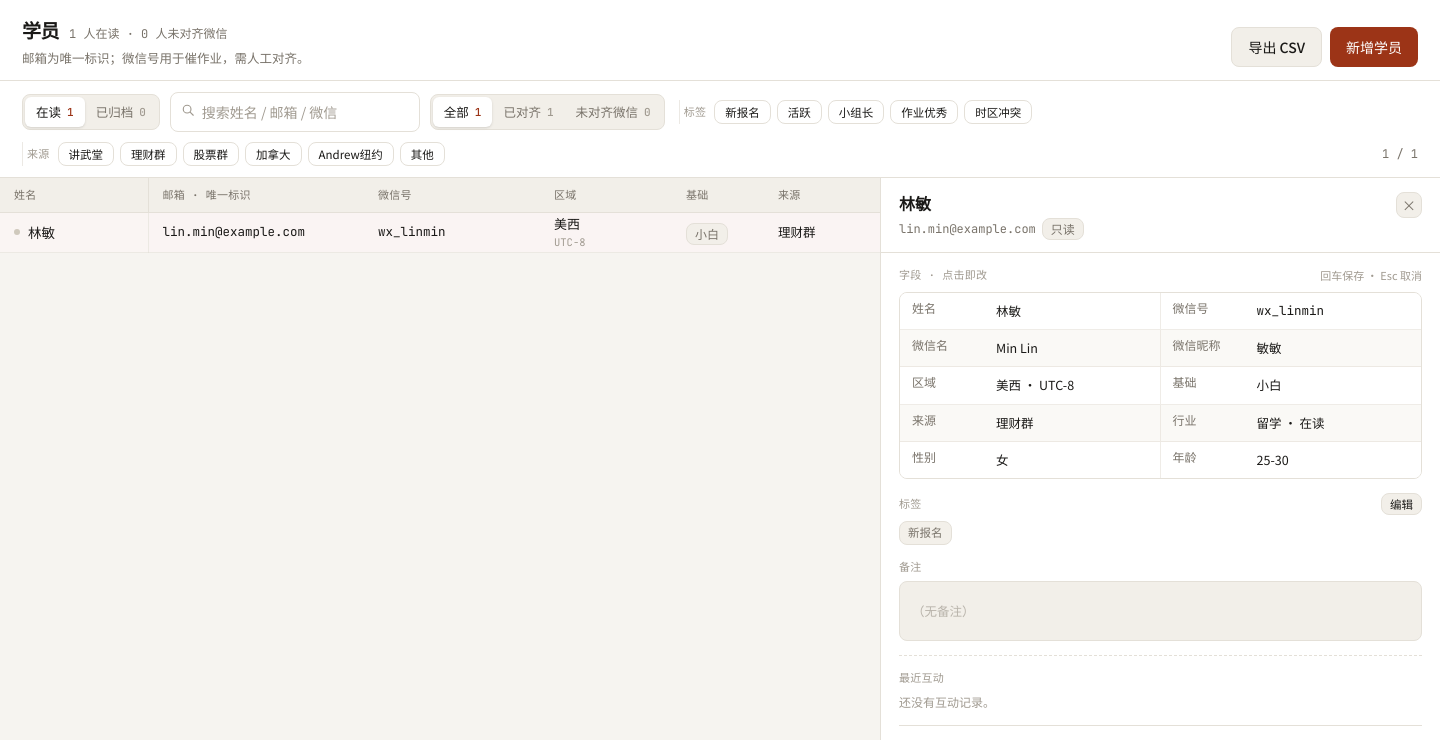
Test: a field that fails to save › keeps what the user typed instead of reverting to the stored value
Click the button "wx_linmin" at (1333, 311), box [1256, 299, 1409, 323]
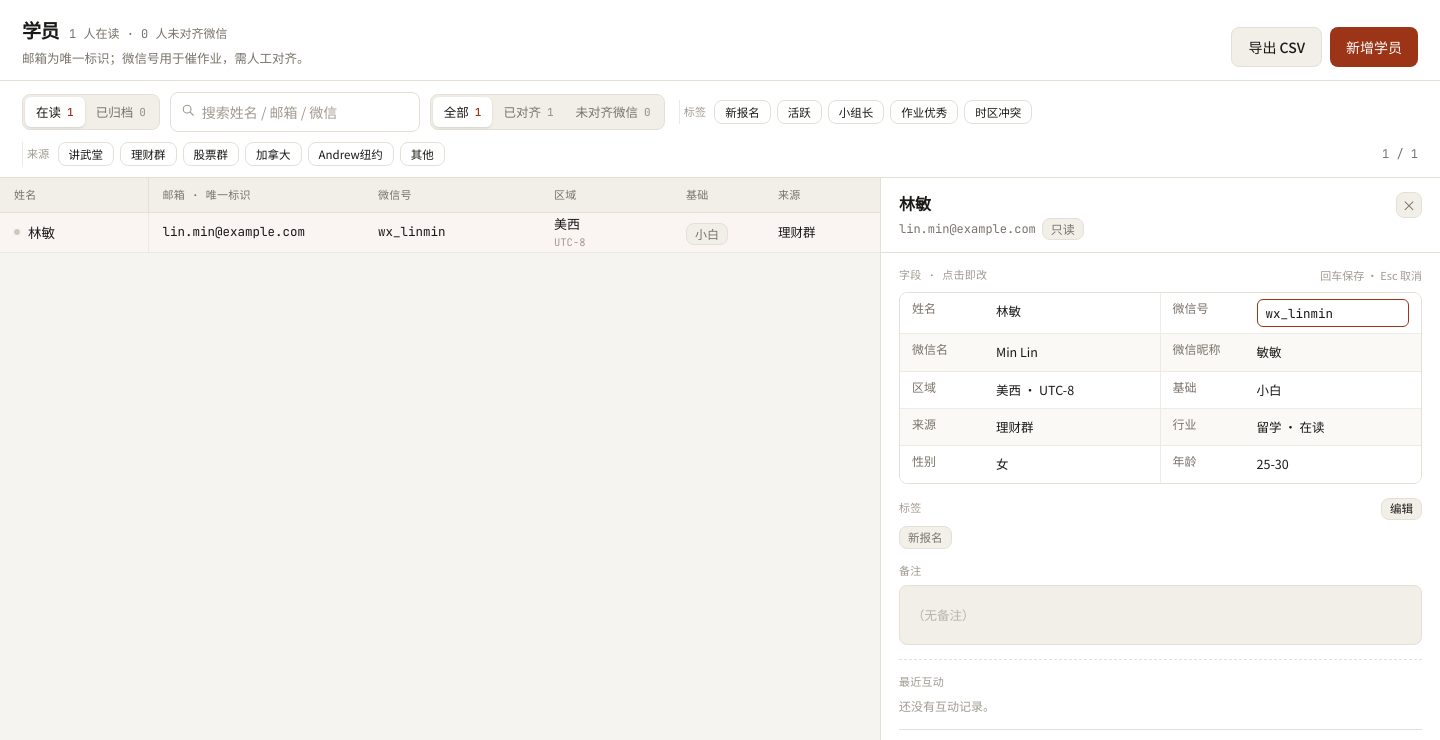
Replace the text in the 2nd field with "wx_hard_to_find" at (1333, 313), box [1256, 299, 1409, 327]
Then press Enter
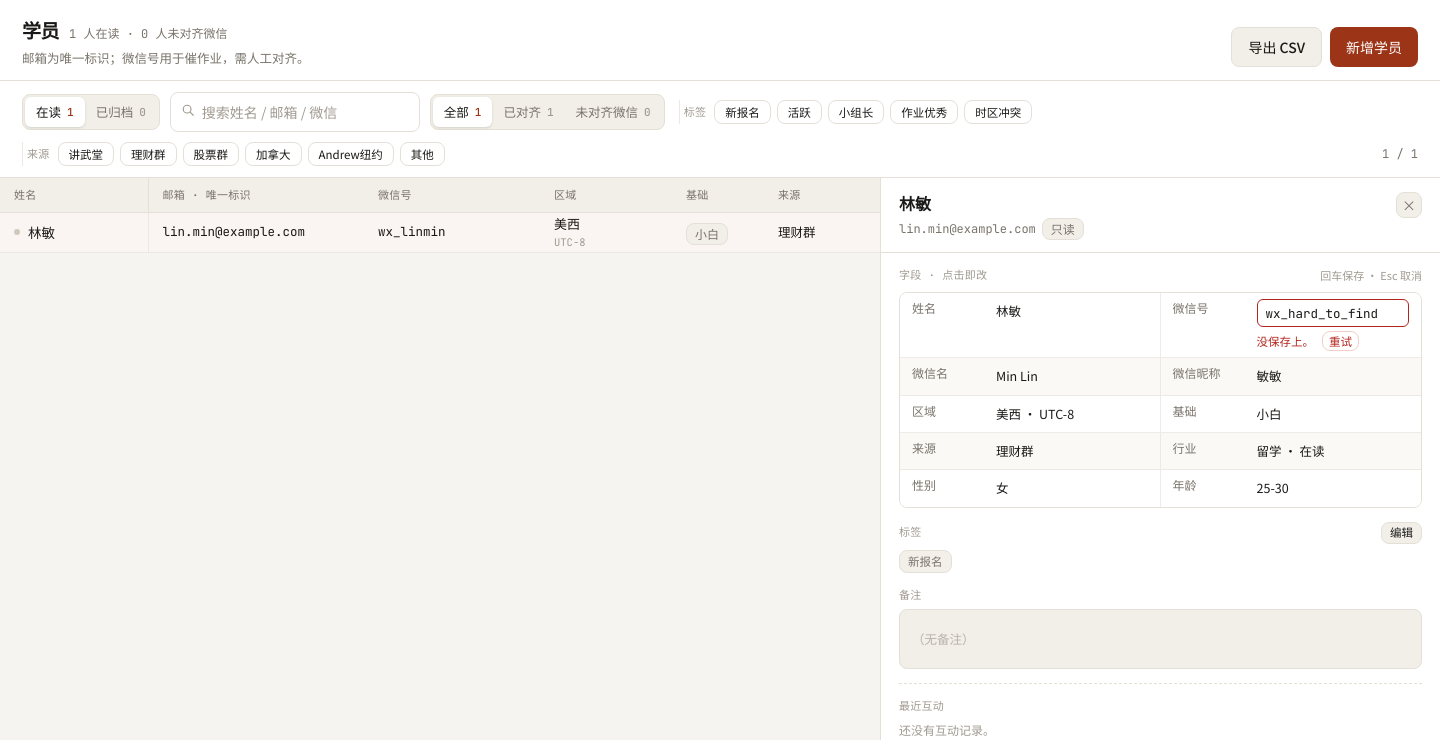
Expected: the 2nd field holds "wx_hard_to_find", [1256, 299, 1409, 327]
